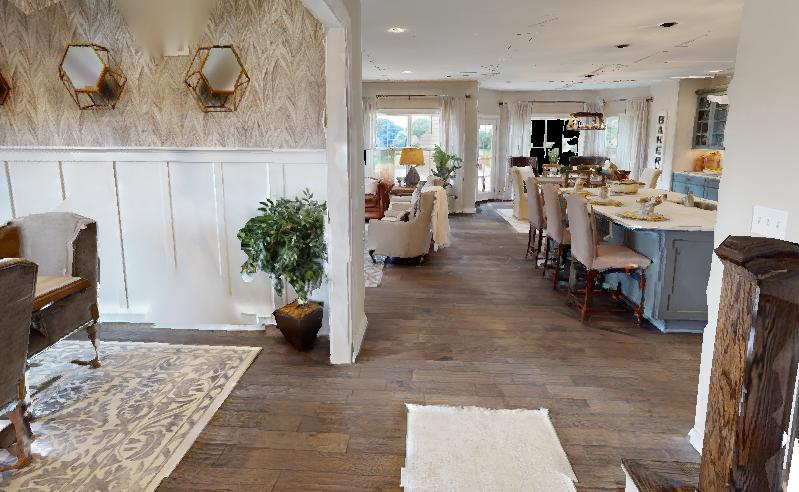chair: (0, 202, 120, 386), (562, 189, 656, 340), (538, 176, 574, 299)
sofa: (361, 172, 466, 276)
